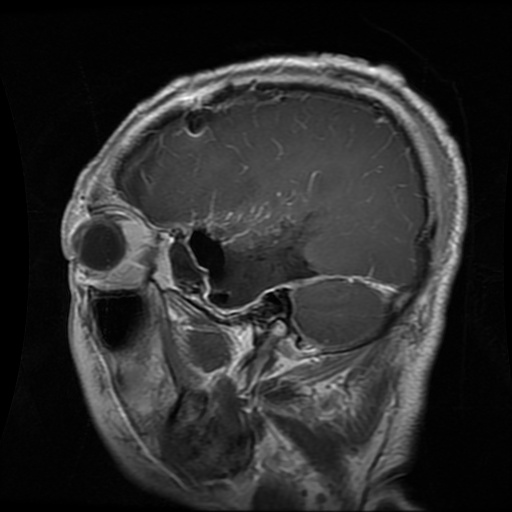glioma: (186, 219, 314, 310)
